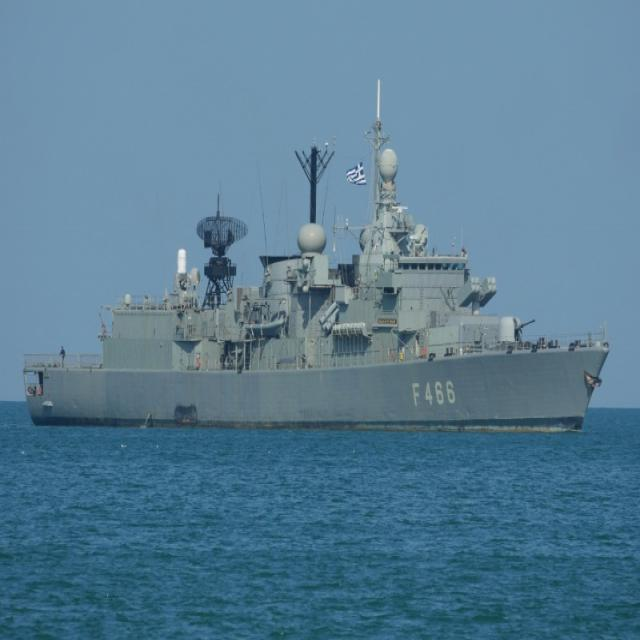Fragata: (20, 68, 615, 432)
